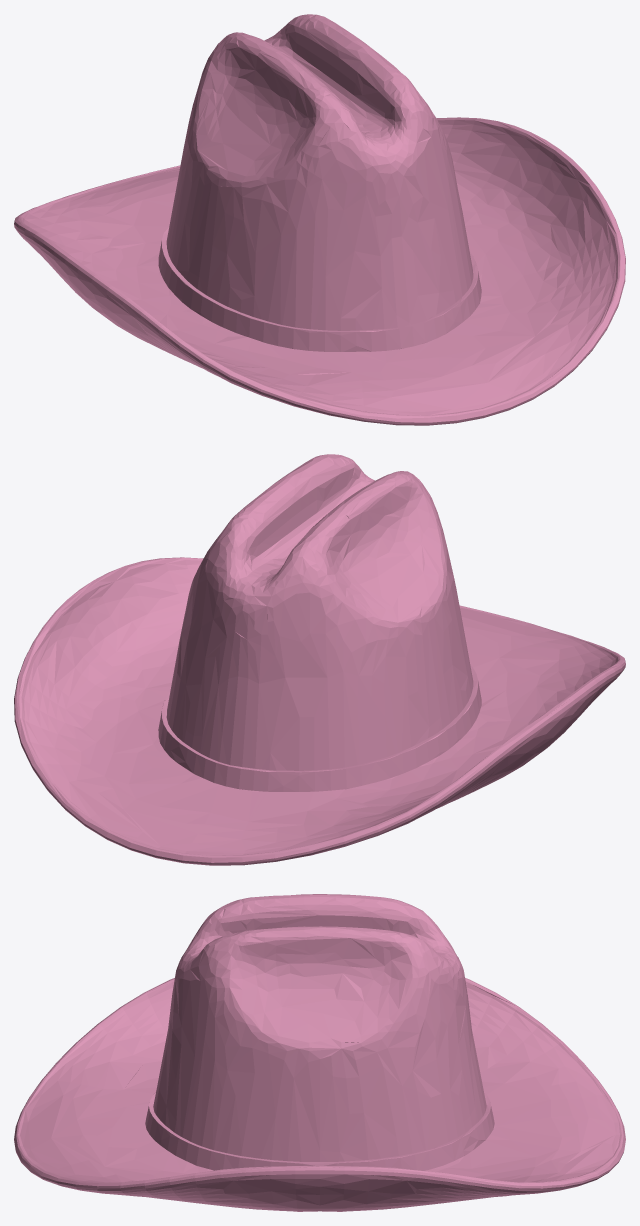
The model's file is cowboyhat.glb.
3 renders of one model, top to bottom at view 1: azimuth 30°, elevation 25°; view 2: azimuth 150°, elevation 25°; view 3: azimuth 270°, elevation 25°, orthographic. The views are drawn at different scales.
Parts seen in each view (by area): view 1: Mesh_Mesh_head_geo.001_lambert2SG.001; view 2: Mesh_Mesh_head_geo.001_lambert2SG.001; view 3: Mesh_Mesh_head_geo.001_lambert2SG.001.
Part boxes in pixels (x1,y1,x2,y2): Mesh_Mesh_head_geo.001_lambert2SG.001: (14,14,625,425); Mesh_Mesh_head_geo.001_lambert2SG.001: (14,454,625,865); Mesh_Mesh_head_geo.001_lambert2SG.001: (14,894,625,1211).
Bounding box in the file's own units: 39.04 × 19.23 × 45.92.
